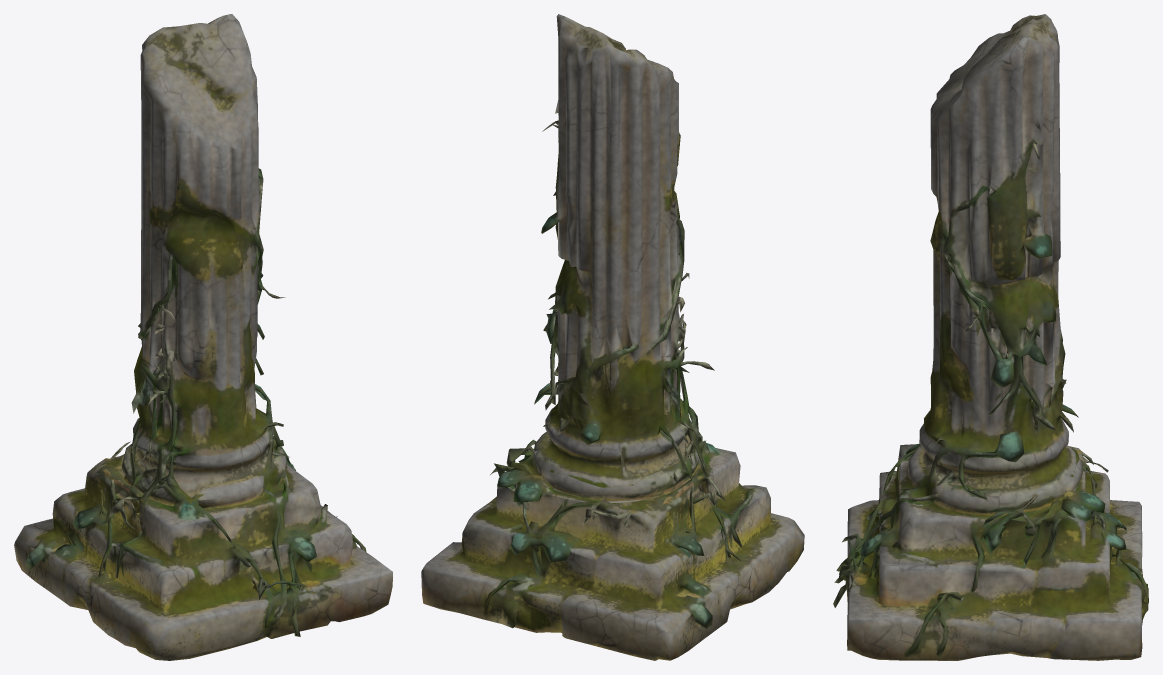
Rendered from BrokenPillar01.fbx.
3 renders of one model, left to right at view 1: azimuth 30°, elevation 25°; view 2: azimuth 150°, elevation 25°; view 3: azimuth 270°, elevation 25°, orthographic. The views are drawn at different scales.
Parts seen in each view (by area): view 1: RuinedPillar_Geometry; view 2: RuinedPillar_Geometry; view 3: RuinedPillar_Geometry.
Part boxes in pixels (x1,y1,x2,y2): RuinedPillar_Geometry: (14, 14, 392, 660); RuinedPillar_Geometry: (421, 14, 804, 660); RuinedPillar_Geometry: (833, 14, 1148, 660).
Size of the model in its own units: 90 by 180 by 88.49.
Materials: 2 (2 with a texture image).
